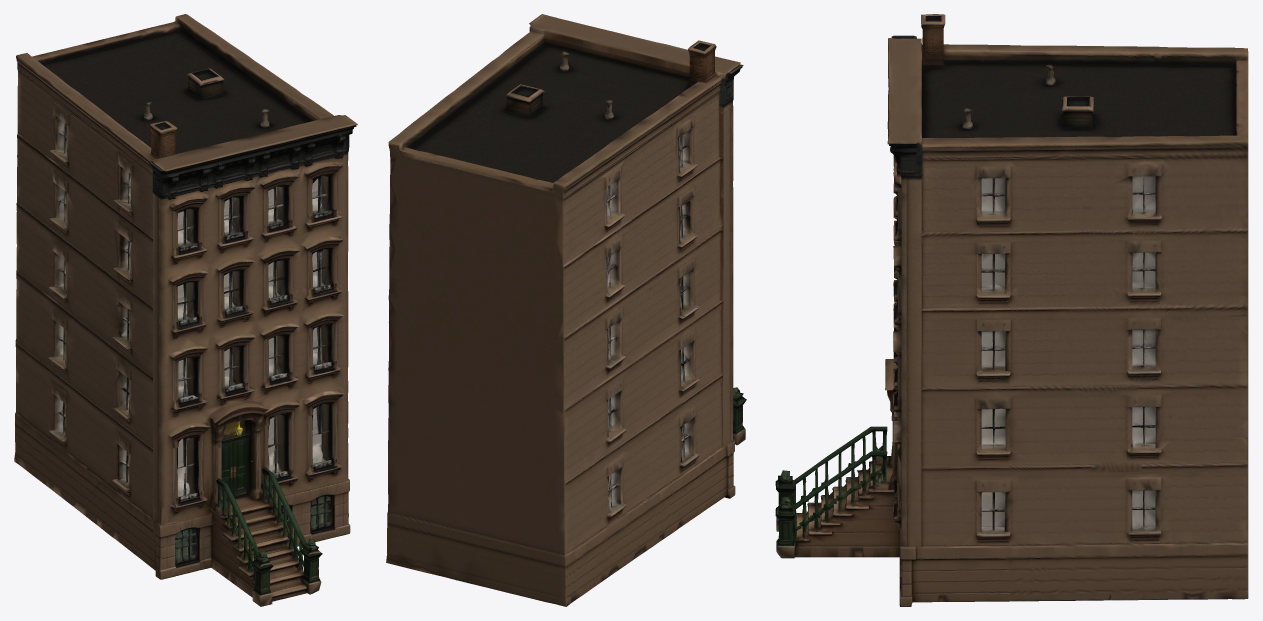
Rendered from LowPolyBrownstone.fbx.
3 views of the same model, side by side, from view 1: azimuth 30°, elevation 25°; view 2: azimuth 150°, elevation 25°; view 3: azimuth 270°, elevation 25° (orthographic). The views are drawn at different scales.
Parts seen in each view (by area): view 1: CF_Building_TripoBrownstone_LowPoly_01; view 2: CF_Building_TripoBrownstone_LowPoly_01; view 3: CF_Building_TripoBrownstone_LowPoly_01.
Boxes of the visible parts, x1,y1,x2,y2 form: CF_Building_TripoBrownstone_LowPoly_01: [14, 14, 357, 606]; CF_Building_TripoBrownstone_LowPoly_01: [386, 14, 746, 606]; CF_Building_TripoBrownstone_LowPoly_01: [775, 14, 1248, 606].
Bounding box in the file's own units: 5.61 × 12 × 10.41.
Materials: 1 (1 with a texture image).
